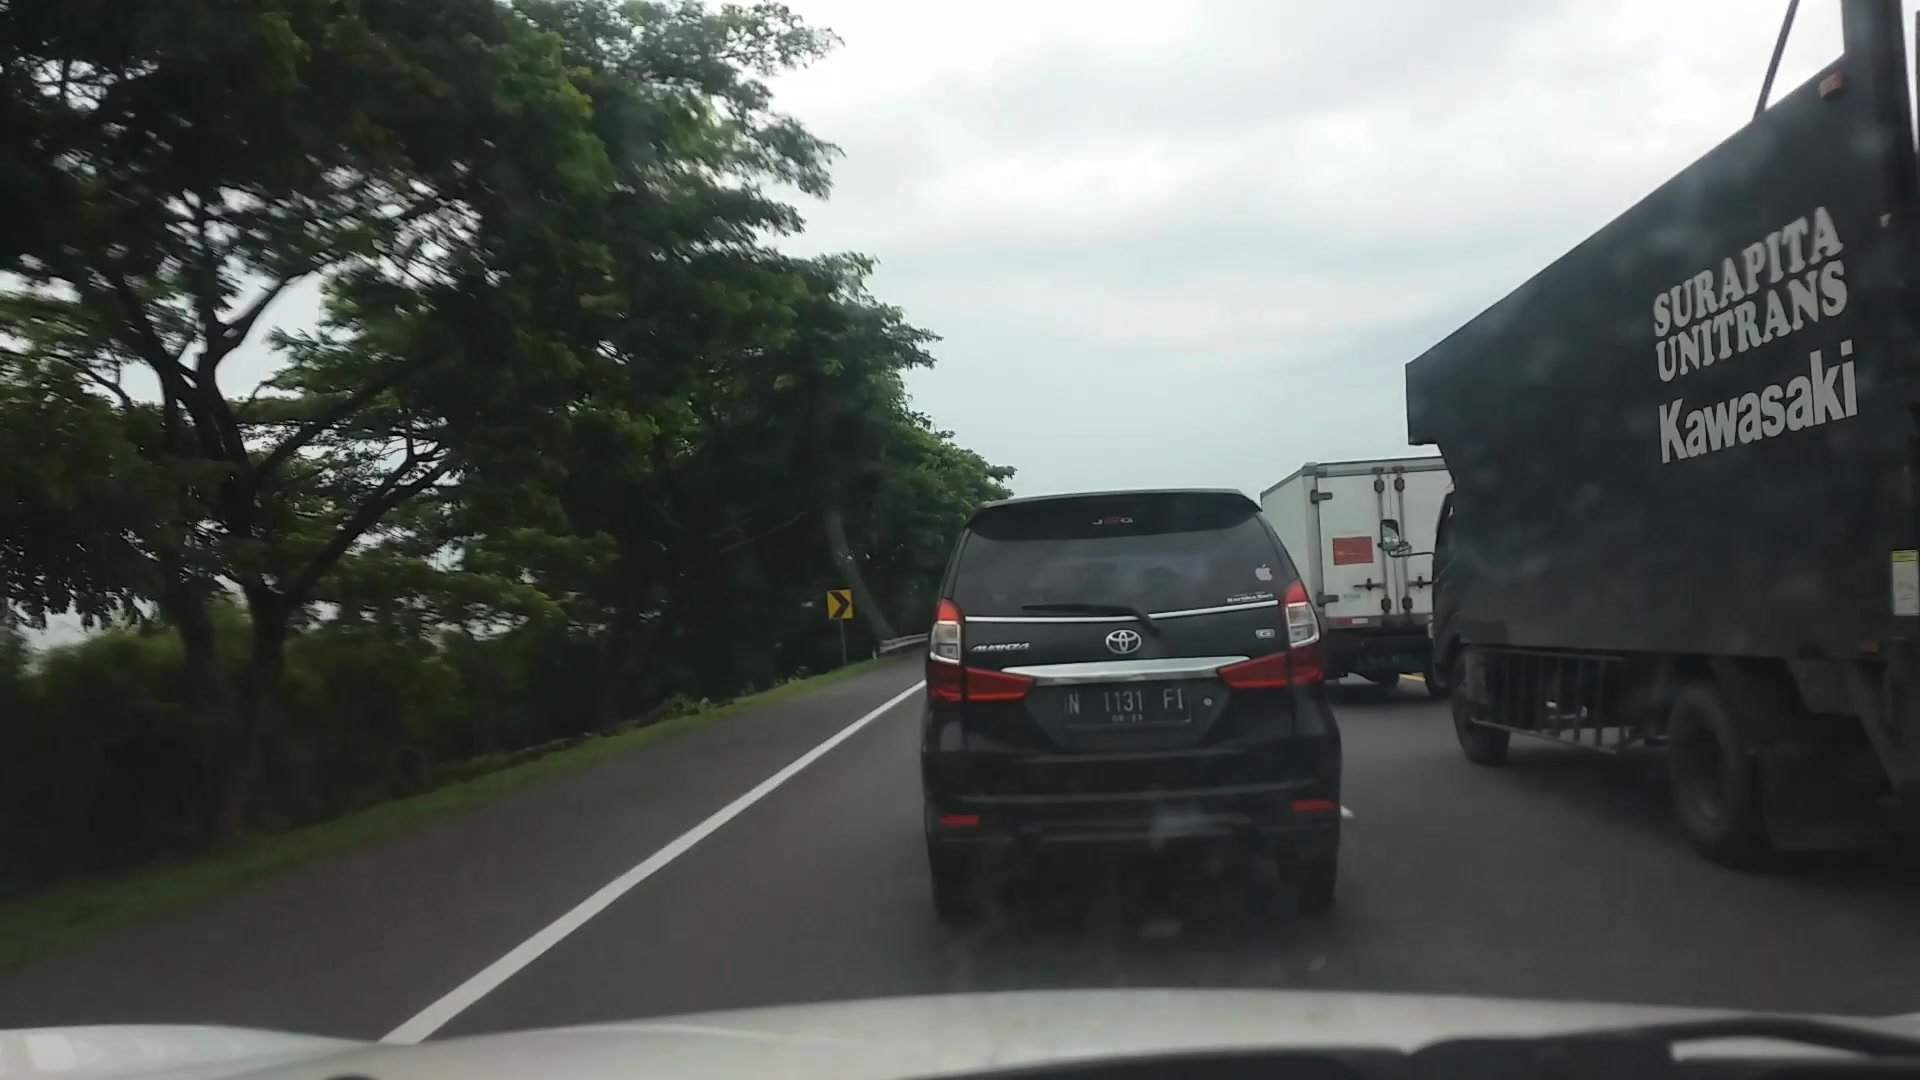plate_positive: (1062, 684, 1189, 725)
